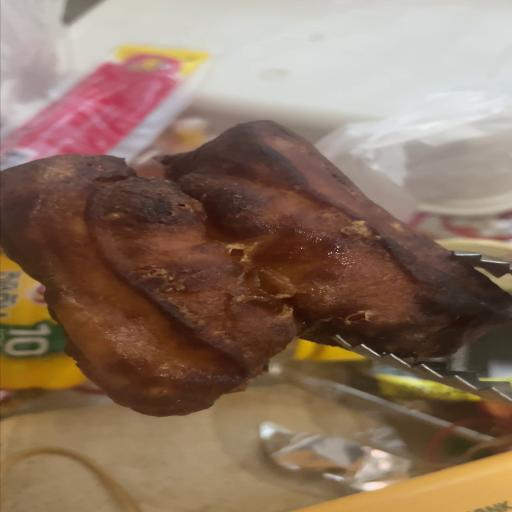street_burnt_defect: (0, 121, 512, 415)
